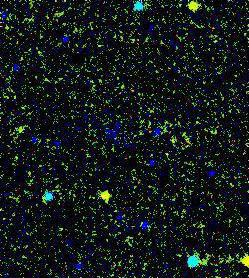star: (93, 182, 123, 212)
